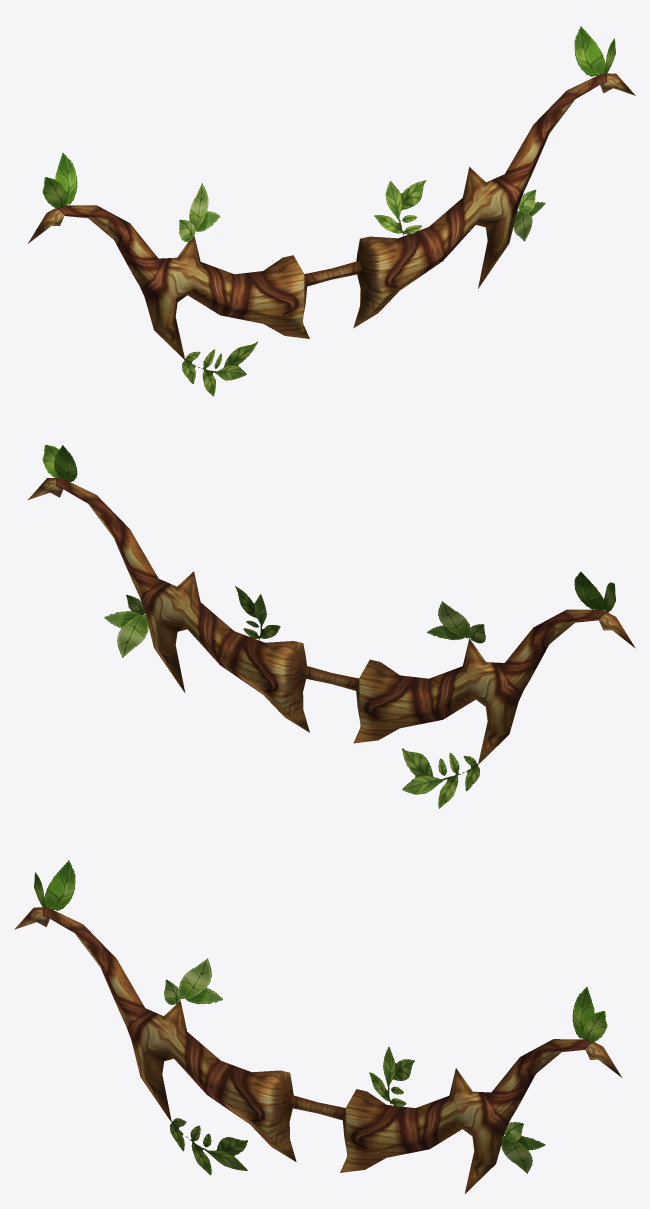
Rendered from Bow_09.FBX.
The picture shows the model from 3 angles, top to bottom: view 1: azimuth 30°, elevation 25°; view 2: azimuth 150°, elevation 25°; view 3: azimuth 330°, elevation 25°; orthographic projection.
Parts seen in each view (by area): view 1: Bow; view 2: Bow; view 3: Bow.
Part boxes in pixels (bbox=[...]): Bow: bbox=[28, 26, 635, 396]; Bow: bbox=[28, 445, 635, 808]; Bow: bbox=[14, 860, 621, 1193].
Size of the model in its own units: 122 by 57.73 by 8.4.
